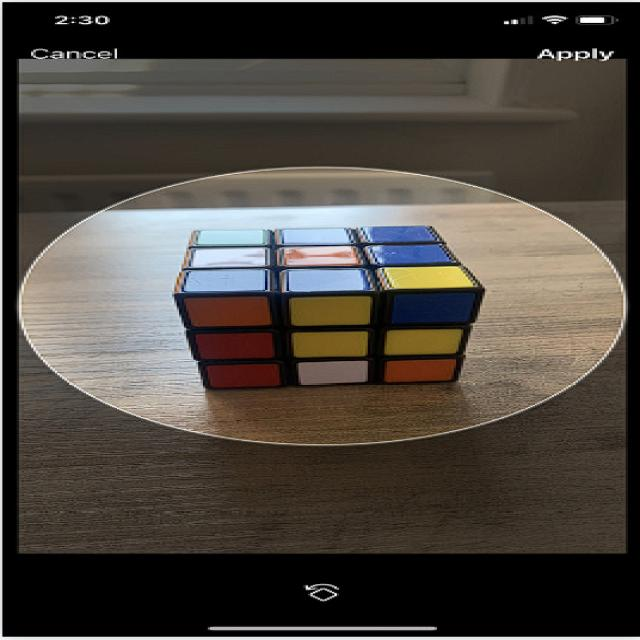image: (126, 214, 532, 392)
text: (19, 40, 154, 70), (532, 34, 640, 68)
